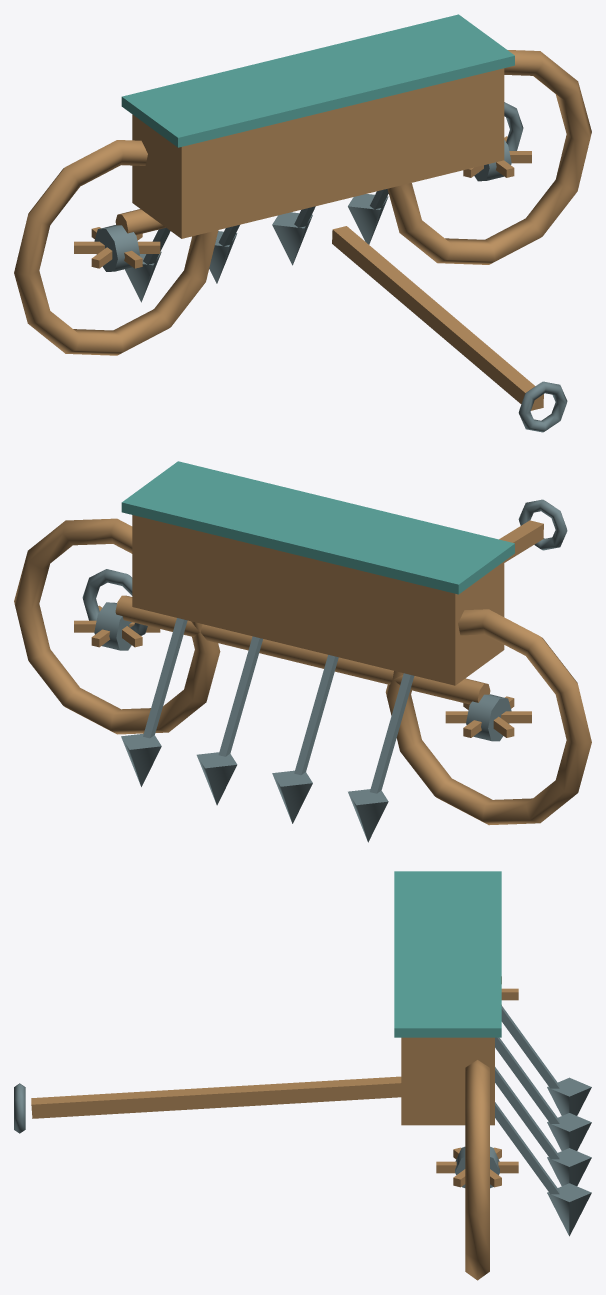
File: Seed-Drill.glb
3 views of the same model, one above another, from view 1: azimuth 30°, elevation 25°; view 2: azimuth 150°, elevation 25°; view 3: azimuth 270°, elevation 25° (orthographic). The views are drawn at different scales.
Visible parts, largest first — view 1: seed-drill-static-seed-drill-timber-mat, seed-drill-static-seed-drill-paint-mat, seed-drill-static-seed-drill-wheel-mat, seed-drill-static-seed-drill-iron-mat, seed-drill-static-seed-drill-steel-mat, seed-drill-static-seed-drill-accent-mat; view 2: seed-drill-static-seed-drill-timber-mat, seed-drill-static-seed-drill-wheel-mat, seed-drill-static-seed-drill-paint-mat, seed-drill-static-seed-drill-iron-mat, seed-drill-static-seed-drill-steel-mat, seed-drill-static-seed-drill-accent-mat; view 3: seed-drill-static-seed-drill-paint-mat, seed-drill-static-seed-drill-timber-mat, seed-drill-static-seed-drill-iron-mat, seed-drill-static-seed-drill-wheel-mat, seed-drill-static-seed-drill-steel-mat.
Part boxes in pixels (x1,y1,x2,y2): seed-drill-static-seed-drill-timber-mat: (74, 68, 543, 410); seed-drill-static-seed-drill-paint-mat: (121, 14, 514, 147); seed-drill-static-seed-drill-wheel-mat: (14, 50, 591, 355); seed-drill-static-seed-drill-iron-mat: (94, 102, 567, 432); seed-drill-static-seed-drill-steel-mat: (143, 189, 388, 265); seed-drill-static-seed-drill-accent-mat: (115, 209, 165, 234); seed-drill-static-seed-drill-timber-mat: (74, 515, 543, 737); seed-drill-static-seed-drill-wheel-mat: (14, 518, 591, 825); seed-drill-static-seed-drill-paint-mat: (121, 461, 514, 594); seed-drill-static-seed-drill-iron-mat: (82, 499, 567, 842); seed-drill-static-seed-drill-steel-mat: (143, 618, 414, 793); seed-drill-static-seed-drill-accent-mat: (115, 595, 490, 704); seed-drill-static-seed-drill-paint-mat: (394, 871, 501, 1037); seed-drill-static-seed-drill-timber-mat: (31, 976, 518, 1187); seed-drill-static-seed-drill-iron-mat: (14, 1077, 591, 1236); seed-drill-static-seed-drill-wheel-mat: (465, 1060, 489, 1280); seed-drill-static-seed-drill-steel-mat: (495, 1006, 559, 1194).
Size of the model in its own units: 3.67 by 1.49 by 3.33.
